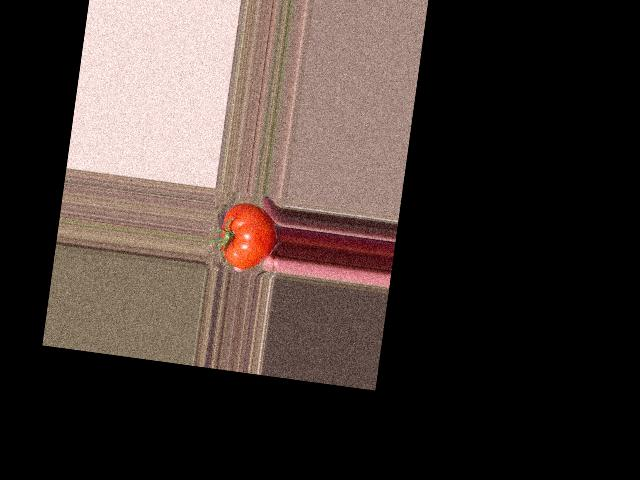tomato: (216, 200, 280, 273)
